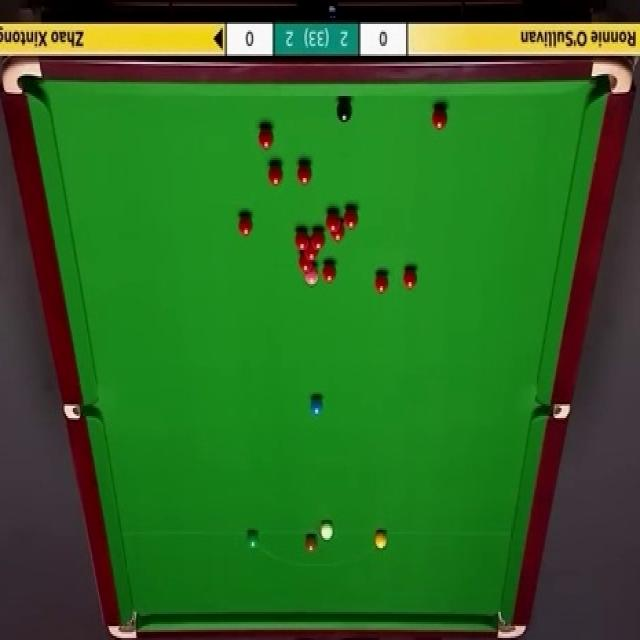black-ball: (337, 98, 352, 126)
blue-ball: (310, 393, 324, 418)
brown-ball: (306, 534, 318, 552)
green-ball: (247, 530, 258, 550)
pink-ball: (303, 269, 319, 286)
red-ball: (430, 105, 448, 130), (258, 124, 275, 150), (321, 259, 337, 285), (268, 163, 284, 186), (324, 211, 340, 233), (236, 214, 252, 236), (296, 163, 312, 185), (403, 268, 418, 291), (375, 270, 389, 294), (343, 208, 358, 230), (310, 232, 326, 250), (294, 231, 309, 250), (331, 226, 345, 244), (302, 248, 320, 261), (296, 260, 314, 271)
white-ball: (320, 522, 335, 542)
yellow-ball: (373, 530, 388, 551)
